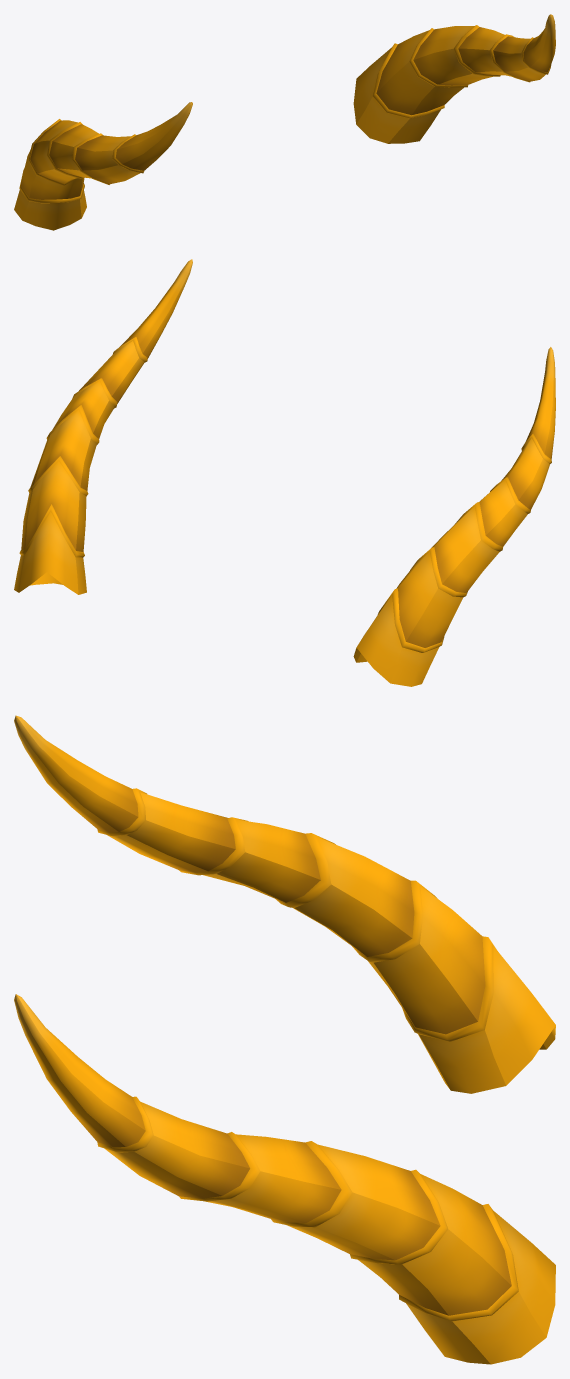
The model's file is Horns_gold.glb.
The picture shows the model from 3 angles, top to bottom: view 1: azimuth 30°, elevation 25°; view 2: azimuth 150°, elevation 25°; view 3: azimuth 270°, elevation 25°; orthographic projection. The views are drawn at different scales.
Visible parts, largest first — view 1: Cube; view 2: Cube; view 3: Cube.
Part boxes in pixels (box(x1,y1,x2,y2)): Cube: box(14, 14, 555, 230); Cube: box(14, 259, 555, 686); Cube: box(14, 715, 555, 1364).
Size of the model in its own units: 0.1695 by 0.0808 by 0.1102.
Materials: 1 (1 with a texture image).
